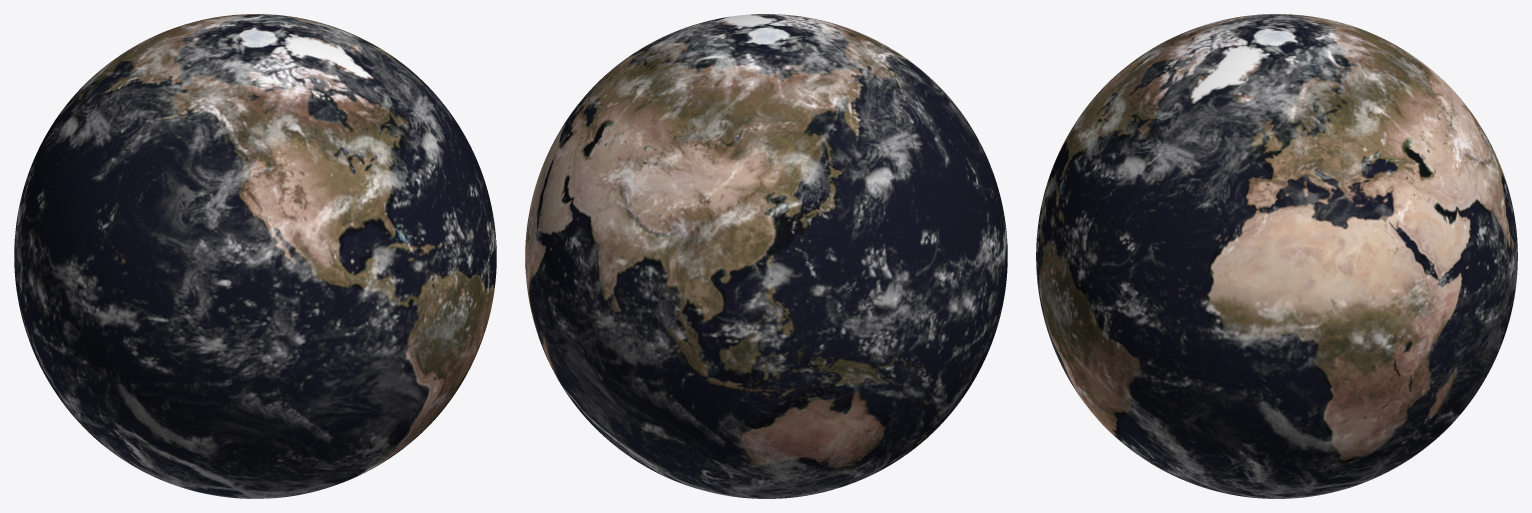
The model's file is tryagain4.glb.
3 views of the same model, side by side, from view 1: azimuth 30°, elevation 25°; view 2: azimuth 150°, elevation 25°; view 3: azimuth 270°, elevation 25° (orthographic).
Parts seen in each view (by area): view 1: node_id15, node_id9, node_id12; view 2: node_id9, node_id12, node_id15; view 3: node_id12, node_id15, node_id9.
Boxes of the visible parts, x1,y1,x2,y2 form: node_id15: (64,14,484,462); node_id9: (14,110,312,498); node_id12: (23,14,496,498); node_id9: (529,108,1007,498); node_id12: (525,47,998,477); node_id15: (563,14,960,210); node_id12: (1081,17,1517,498); node_id15: (1036,14,1444,441); node_id9: (1306,310,1511,496).
Bounding box in the file's own units: 0.5081 × 0.512 × 0.5081.
Materials: 3 (3 with a texture image).
